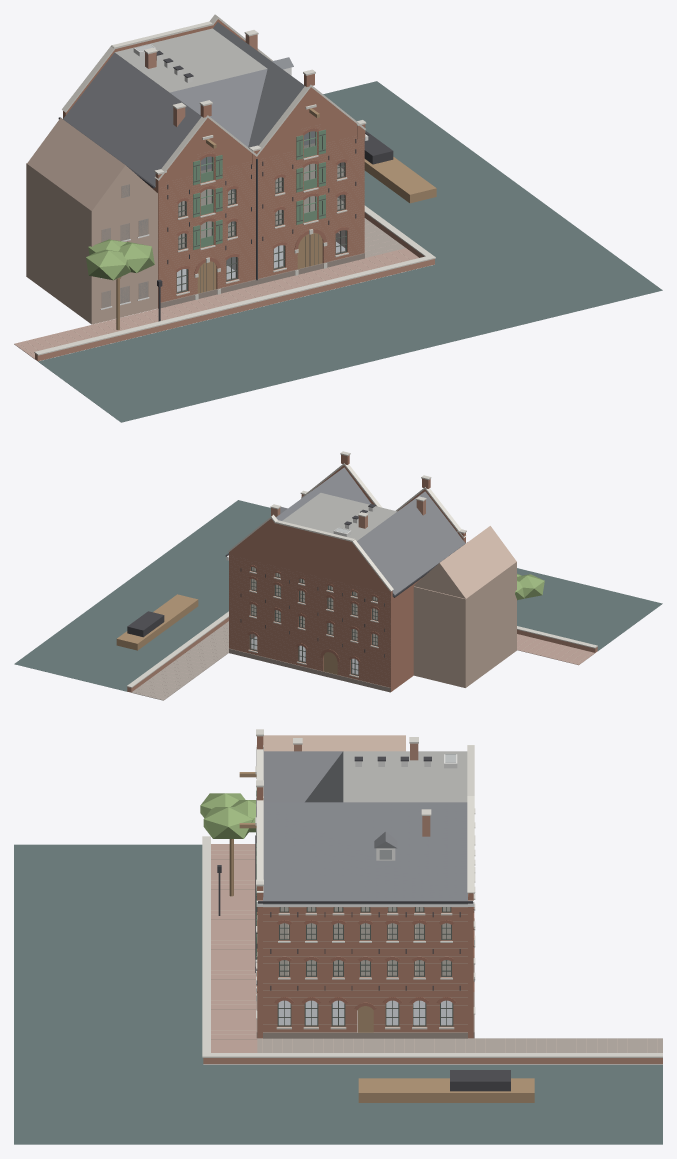
File: clay-amsterdam-canal-warehouse-clay-v002.glb
3 views of the same model, one above another, from view 1: azimuth 30°, elevation 25°; view 2: azimuth 150°, elevation 25°; view 3: azimuth 270°, elevation 25° (orthographic). The views are drawn at different scales.
Parts seen in each view (by area): view 1: CLAY_WATER, CLAY_WALL, CLAY_NEIGHBOUR, CLAY_ROOF, CLAY_STONE, CLAY_PAVING, CLAY_MEMBRANE, CLAY_GLASS, CLAY_GREEN, CLAY_TIMBER, CLAY_BRICK, CLAY_PLANTING (+6 smaller); view 2: CLAY_WATER, CLAY_WALL, CLAY_NEIGHBOUR, CLAY_ROOF, CLAY_STONE, CLAY_SETTS, CLAY_MEMBRANE, CLAY_TIMBER, CLAY_BRICK, CLAY_PAVING, CLAY_TRIM, CLAY_GLASS (+5 smaller); view 3: CLAY_WATER, CLAY_ROOF, CLAY_WALL, CLAY_PAVING, CLAY_STONE, CLAY_SETTS, CLAY_MEMBRANE, CLAY_TIMBER, CLAY_GLASS, CLAY_BRICK, CLAY_JOINT, CLAY_HARDWARE (+7 smaller).
Boxes of the visible parts, x1,y1,x2,y2 form: CLAY_WATER: [38, 81, 662, 422]; CLAY_WALL: [63, 19, 365, 308]; CLAY_NEIGHBOUR: [26, 118, 157, 324]; CLAY_ROOF: [63, 22, 314, 187]; CLAY_STONE: [34, 14, 435, 355]; CLAY_PAVING: [14, 248, 418, 359]; CLAY_MEMBRANE: [115, 28, 267, 92]; CLAY_GLASS: [101, 44, 345, 308]; CLAY_GREEN: [193, 129, 325, 249]; CLAY_TIMBER: [116, 108, 436, 329]; CLAY_BRICK: [35, 34, 434, 361]; CLAY_PLANTING: [86, 239, 154, 280]; CLAY_WATER: [14, 500, 662, 691]; CLAY_WALL: [229, 454, 465, 691]; CLAY_NEIGHBOUR: [413, 526, 516, 687]; CLAY_ROOF: [270, 467, 465, 596]; CLAY_STONE: [126, 451, 597, 687]; CLAY_SETTS: [131, 621, 228, 700]; CLAY_MEMBRANE: [282, 493, 397, 540]; CLAY_TIMBER: [116, 594, 517, 674]; CLAY_BRICK: [127, 500, 597, 692]; CLAY_PAVING: [517, 634, 594, 665]; CLAY_TRIM: [249, 567, 377, 675]; CLAY_GLASS: [250, 528, 377, 674]; CLAY_WATER: [14, 844, 662, 1144]; CLAY_ROOF: [263, 751, 467, 904]; CLAY_WALL: [257, 736, 473, 1038]; CLAY_PAVING: [211, 844, 257, 1052]; CLAY_STONE: [202, 729, 662, 1057]; CLAY_SETTS: [257, 1038, 662, 1052]; CLAY_MEMBRANE: [343, 751, 467, 802]; CLAY_TIMBER: [229, 772, 534, 1102]; CLAY_GLASS: [278, 754, 455, 1025]; CLAY_BRICK: [203, 743, 662, 1064]; CLAY_JOINT: [211, 850, 657, 1052]; CLAY_HARDWARE: [217, 756, 510, 1091].
Bounding box in the file's own units: 52.5 × 18.43 × 48.
